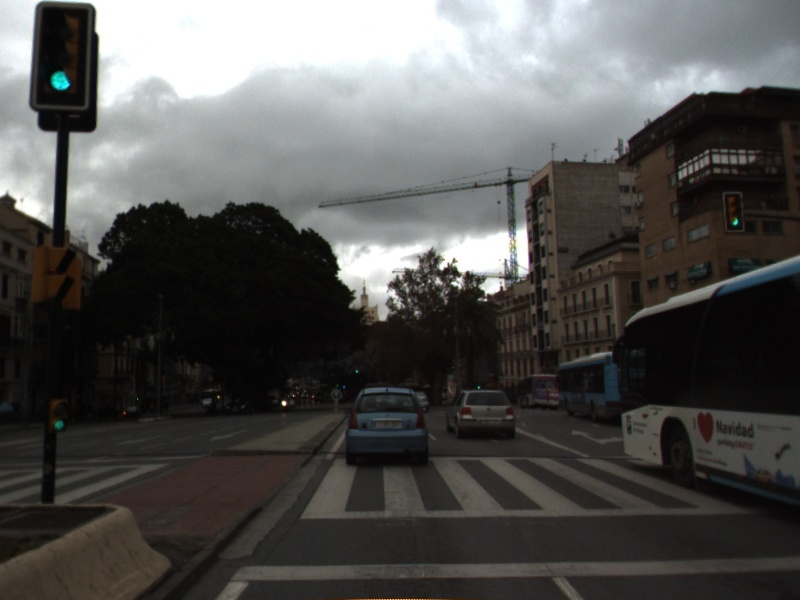STRAIGHT_RIGHT: (569, 427, 624, 447)
